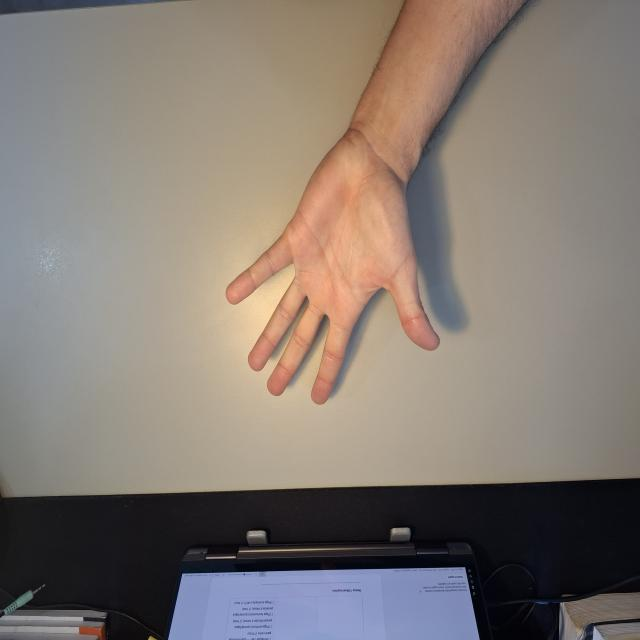glove_off: (223, 122, 442, 407)
